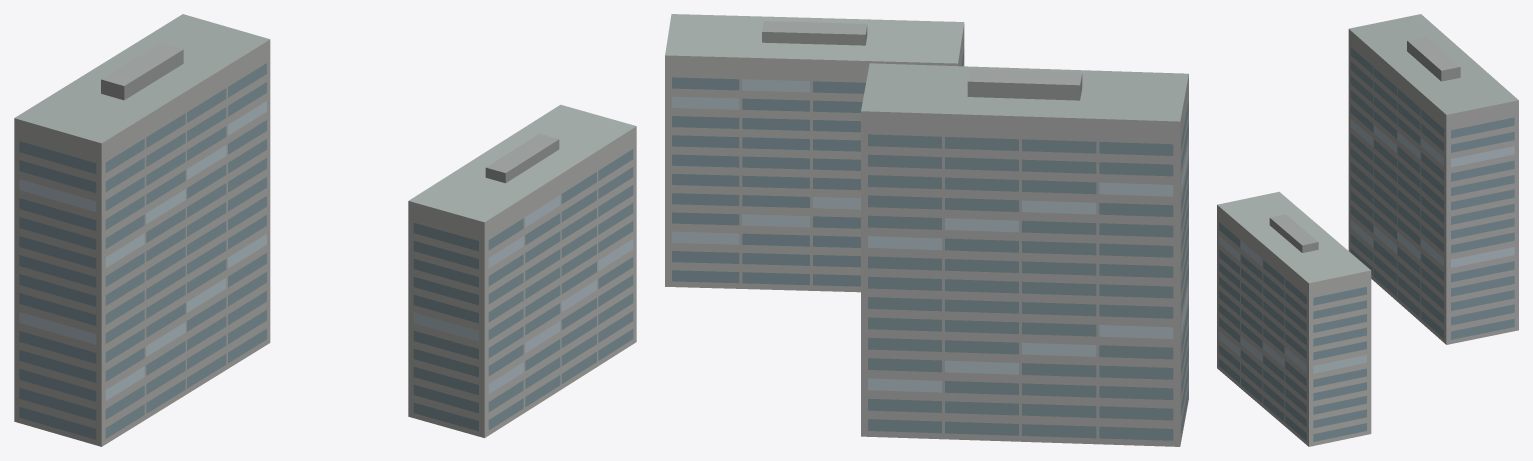
The model's file is apt-a13980102.glb.
3 renders of one model, left to right at view 1: azimuth 30°, elevation 25°; view 2: azimuth 150°, elevation 25°; view 3: azimuth 270°, elevation 25°, orthographic. The views are drawn at different scales.
Visible parts, largest first — view 1: apt-a13980102; view 2: apt-a13980102; view 3: apt-a13980102.
Part boxes in pixels (x1=…): apt-a13980102: x1=14, y1=14, x2=636, y2=446; apt-a13980102: x1=665, y1=14, x2=1188, y2=446; apt-a13980102: x1=1217, y1=14, x2=1518, y2=446.
Size of the model in its own units: 81.28 by 45 by 51.11.
